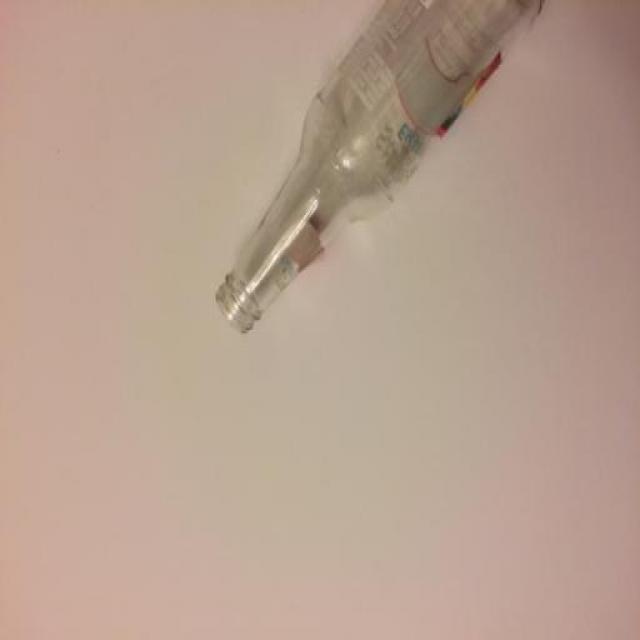Waste: (216, 1, 542, 332)
